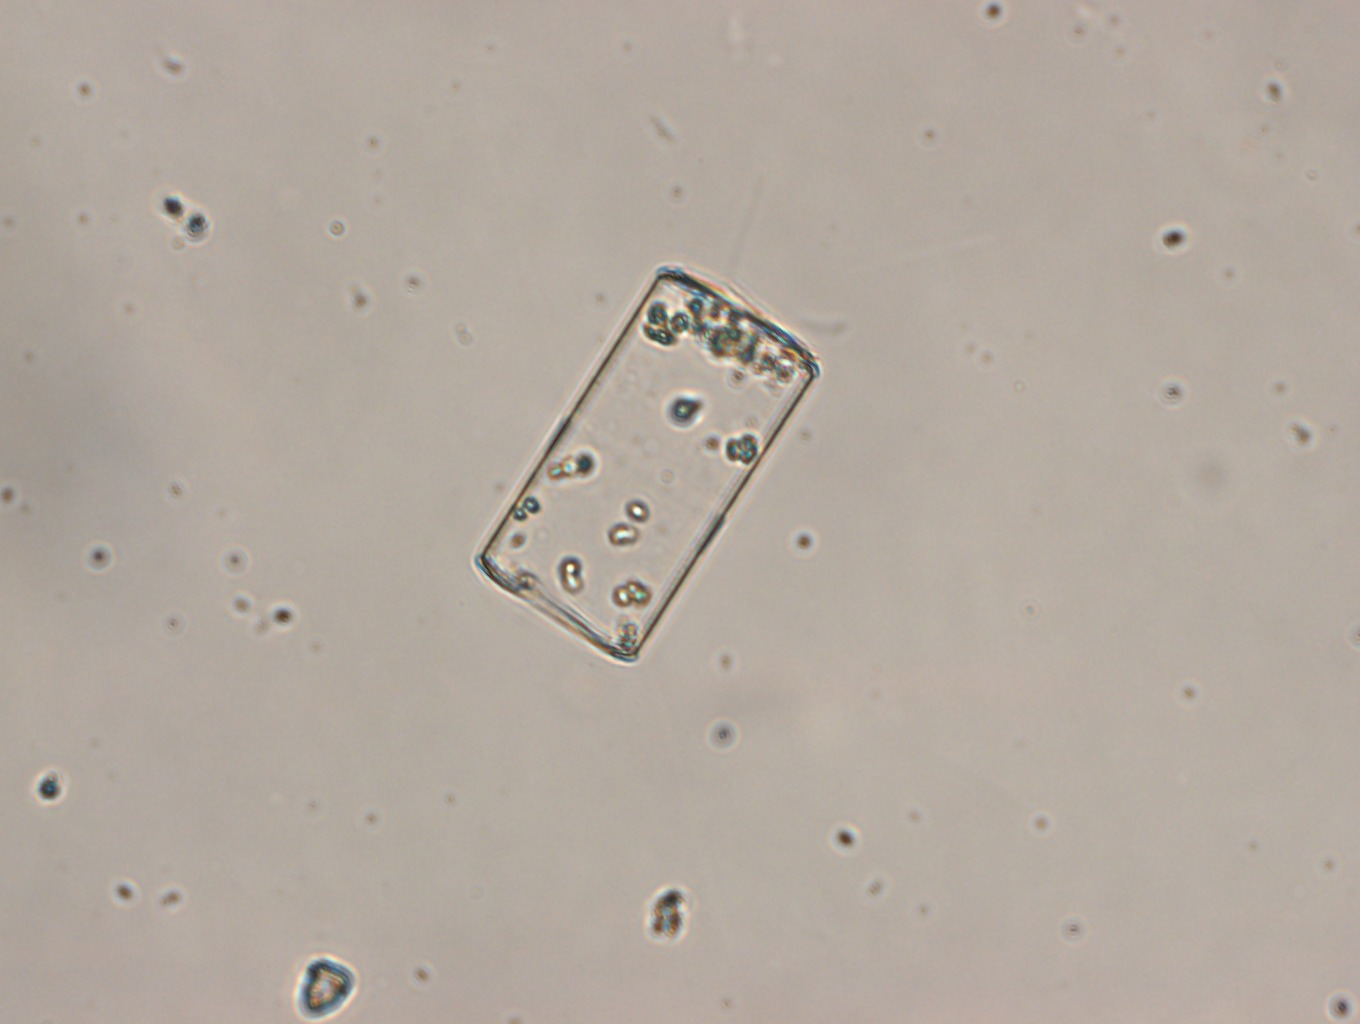guinardia flaccida: (474, 261, 818, 662)
